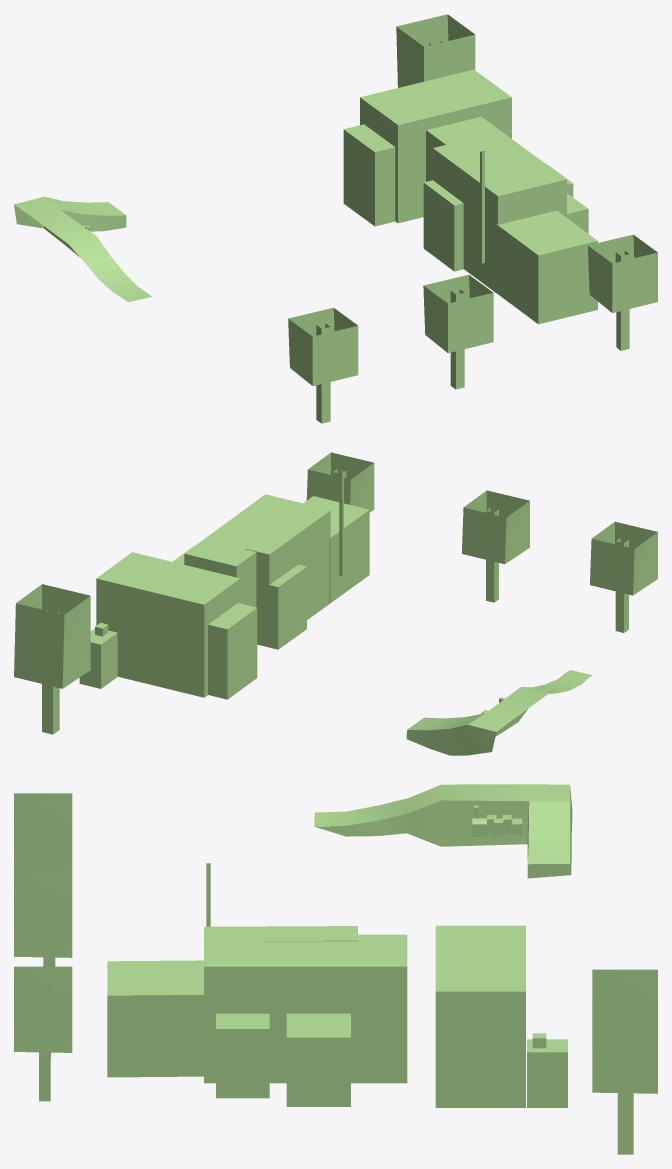
The model's file is collision_camera.X.obj.
3 views of the same model, one above another, from view 1: azimuth 30°, elevation 25°; view 2: azimuth 150°, elevation 25°; view 3: azimuth 270°, elevation 25° (orthographic). The views are drawn at different scales.
Bounding box in the file's own units: 6224 × 2242 × 6196.
